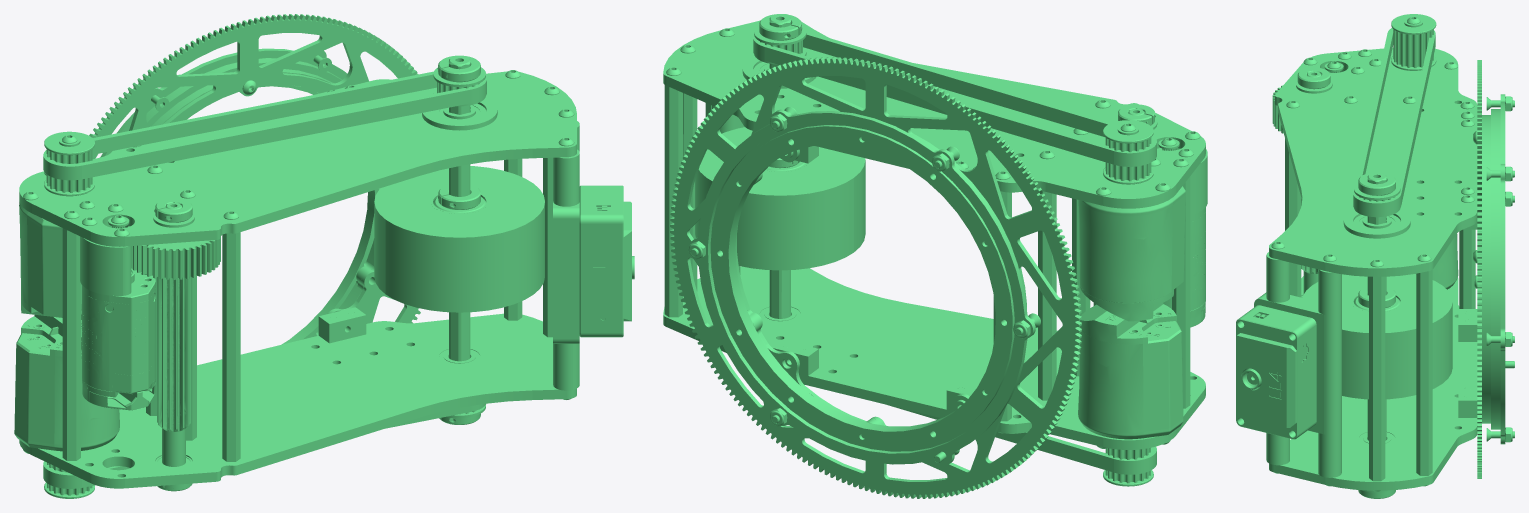
The picture shows the model from 3 angles, left to right: view 1: azimuth 30°, elevation 25°; view 2: azimuth 150°, elevation 25°; view 3: azimuth 270°, elevation 25°; orthographic projection. The views are drawn at different scales.
Parts seen in each view (by area): view 1: 26G0201 Main Plate__100, 26G0201 Main Plate__34, 4" OD 2"W 35A Fairlane 2476K37__77, 26E0107Gear__17, 5mmBelt-120-9mm-18-18__60, 26G0402__74, Kraken X44 Powered by TalonFX (WCP-0941)__107, LL4__30, Kraken X60 Brushless Motor__37, 6" L #10-32 3/8" Hex Standofff__69, 6" L #10-32 3/8" Hex Standofff__106, Kraken X60 Brushless Motor__57 (+18 smaller); view 2: 26E0107Gear__17, 26G0201 Main Plate__100, 26G0201 Main Plate__34, 26E0101ID Center Clamp__4, 4" OD 2"W 35A Fairlane 2476K37__77, 26E0109Lower OD full ring__13, Kraken X60 Brushless Motor__37, Kraken X60 Brushless Motor__57, 5mmBelt-120-9mm-18-18__60, 6" L #10-32 3/8" Hex Standofff__110, 6" L #10-32 3/8" Hex Standofff__116, 5mmBelt-120-9mm-18-18__125 (+12 smaller); view 3: 26G0201 Main Plate__34, 26G0201 Main Plate__100, LL4__30, 4" OD 2"W 35A Fairlane 2476K37__77, 26G0204__86, 6" L #10-32 3/8" Hex Standofff__123, 5mmBelt-120-9mm-18-18__60, 6" L #10-32 3/8" Hex Standofff__110, Delrin Ring__11, 26E0104Shooter ID Clamp Spacer__18, 26E0109Lower OD full ring__13, 26E0107Gear__17 (+18 smaller).
Boxes of the visible parts, box(x1,y1,x2,y2) form: 26G0201 Main Plate__100: box(19, 313, 576, 488); 26G0201 Main Plate__34: box(19, 71, 576, 246); 4" OD 2"W 35A Fairlane 2476K37__77: box(374, 166, 544, 312); 26E0107Gear__17: box(89, 14, 420, 323); 5mmBelt-120-9mm-18-18__60: box(43, 71, 486, 180); 26G0402__74: box(128, 226, 220, 466); Kraken X44 Powered by TalonFX (WCP-0941)__107: box(81, 226, 155, 410); LL4__30: box(579, 185, 634, 337); Kraken X60 Brushless Motor__37: box(14, 315, 119, 451); 6" L #10-32 3/8" Hex Standofff__69: box(222, 232, 240, 461); 6" L #10-32 3/8" Hex Standofff__106: box(62, 228, 80, 460); Kraken X60 Brushless Motor__57: box(19, 196, 81, 319); 26E0107Gear__17: box(670, 57, 1081, 498); 26G0201 Main Plate__100: box(663, 266, 1205, 449); 26G0201 Main Plate__34: box(663, 20, 1205, 208); 26E0101ID Center Clamp__4: box(711, 125, 1014, 449); 4" OD 2"W 35A Fairlane 2476K37__77: box(695, 127, 865, 270); 26E0109Lower OD full ring__13: box(690, 109, 1035, 465); Kraken X60 Brushless Motor__37: box(1078, 303, 1183, 439); Kraken X60 Brushless Motor__57: box(1078, 184, 1185, 321); 5mmBelt-120-9mm-18-18__60: box(753, 31, 1156, 166); 6" L #10-32 3/8" Hex Standofff__110: box(664, 85, 682, 317); 6" L #10-32 3/8" Hex Standofff__116: box(1038, 191, 1056, 400); 5mmBelt-120-9mm-18-18__125: box(888, 405, 1156, 474); 26G0201 Main Plate__34: box(1269, 48, 1477, 276); 26G0201 Main Plate__100: box(1269, 276, 1477, 490); LL4__30: box(1236, 305, 1316, 439); 4" OD 2"W 35A Fairlane 2476K37__77: box(1302, 274, 1452, 399); 26G0204__86: box(1254, 292, 1341, 434); 6" L #10-32 3/8" Hex Standofff__123: box(1369, 276, 1385, 481); 5mmBelt-120-9mm-18-18__60: box(1353, 28, 1435, 215); 6" L #10-32 3/8" Hex Standofff__110: box(1416, 270, 1432, 475); Delrin Ring__11: box(1491, 109, 1500, 429); 26E0104Shooter ID Clamp Spacer__18: box(1482, 115, 1490, 423); 26E0109Lower OD full ring__13: box(1500, 94, 1505, 444); 26E0107Gear__17: box(1477, 60, 1481, 478).
Bounding box in the file's own units: 0.3704 × 0.2819 × 0.1876.
